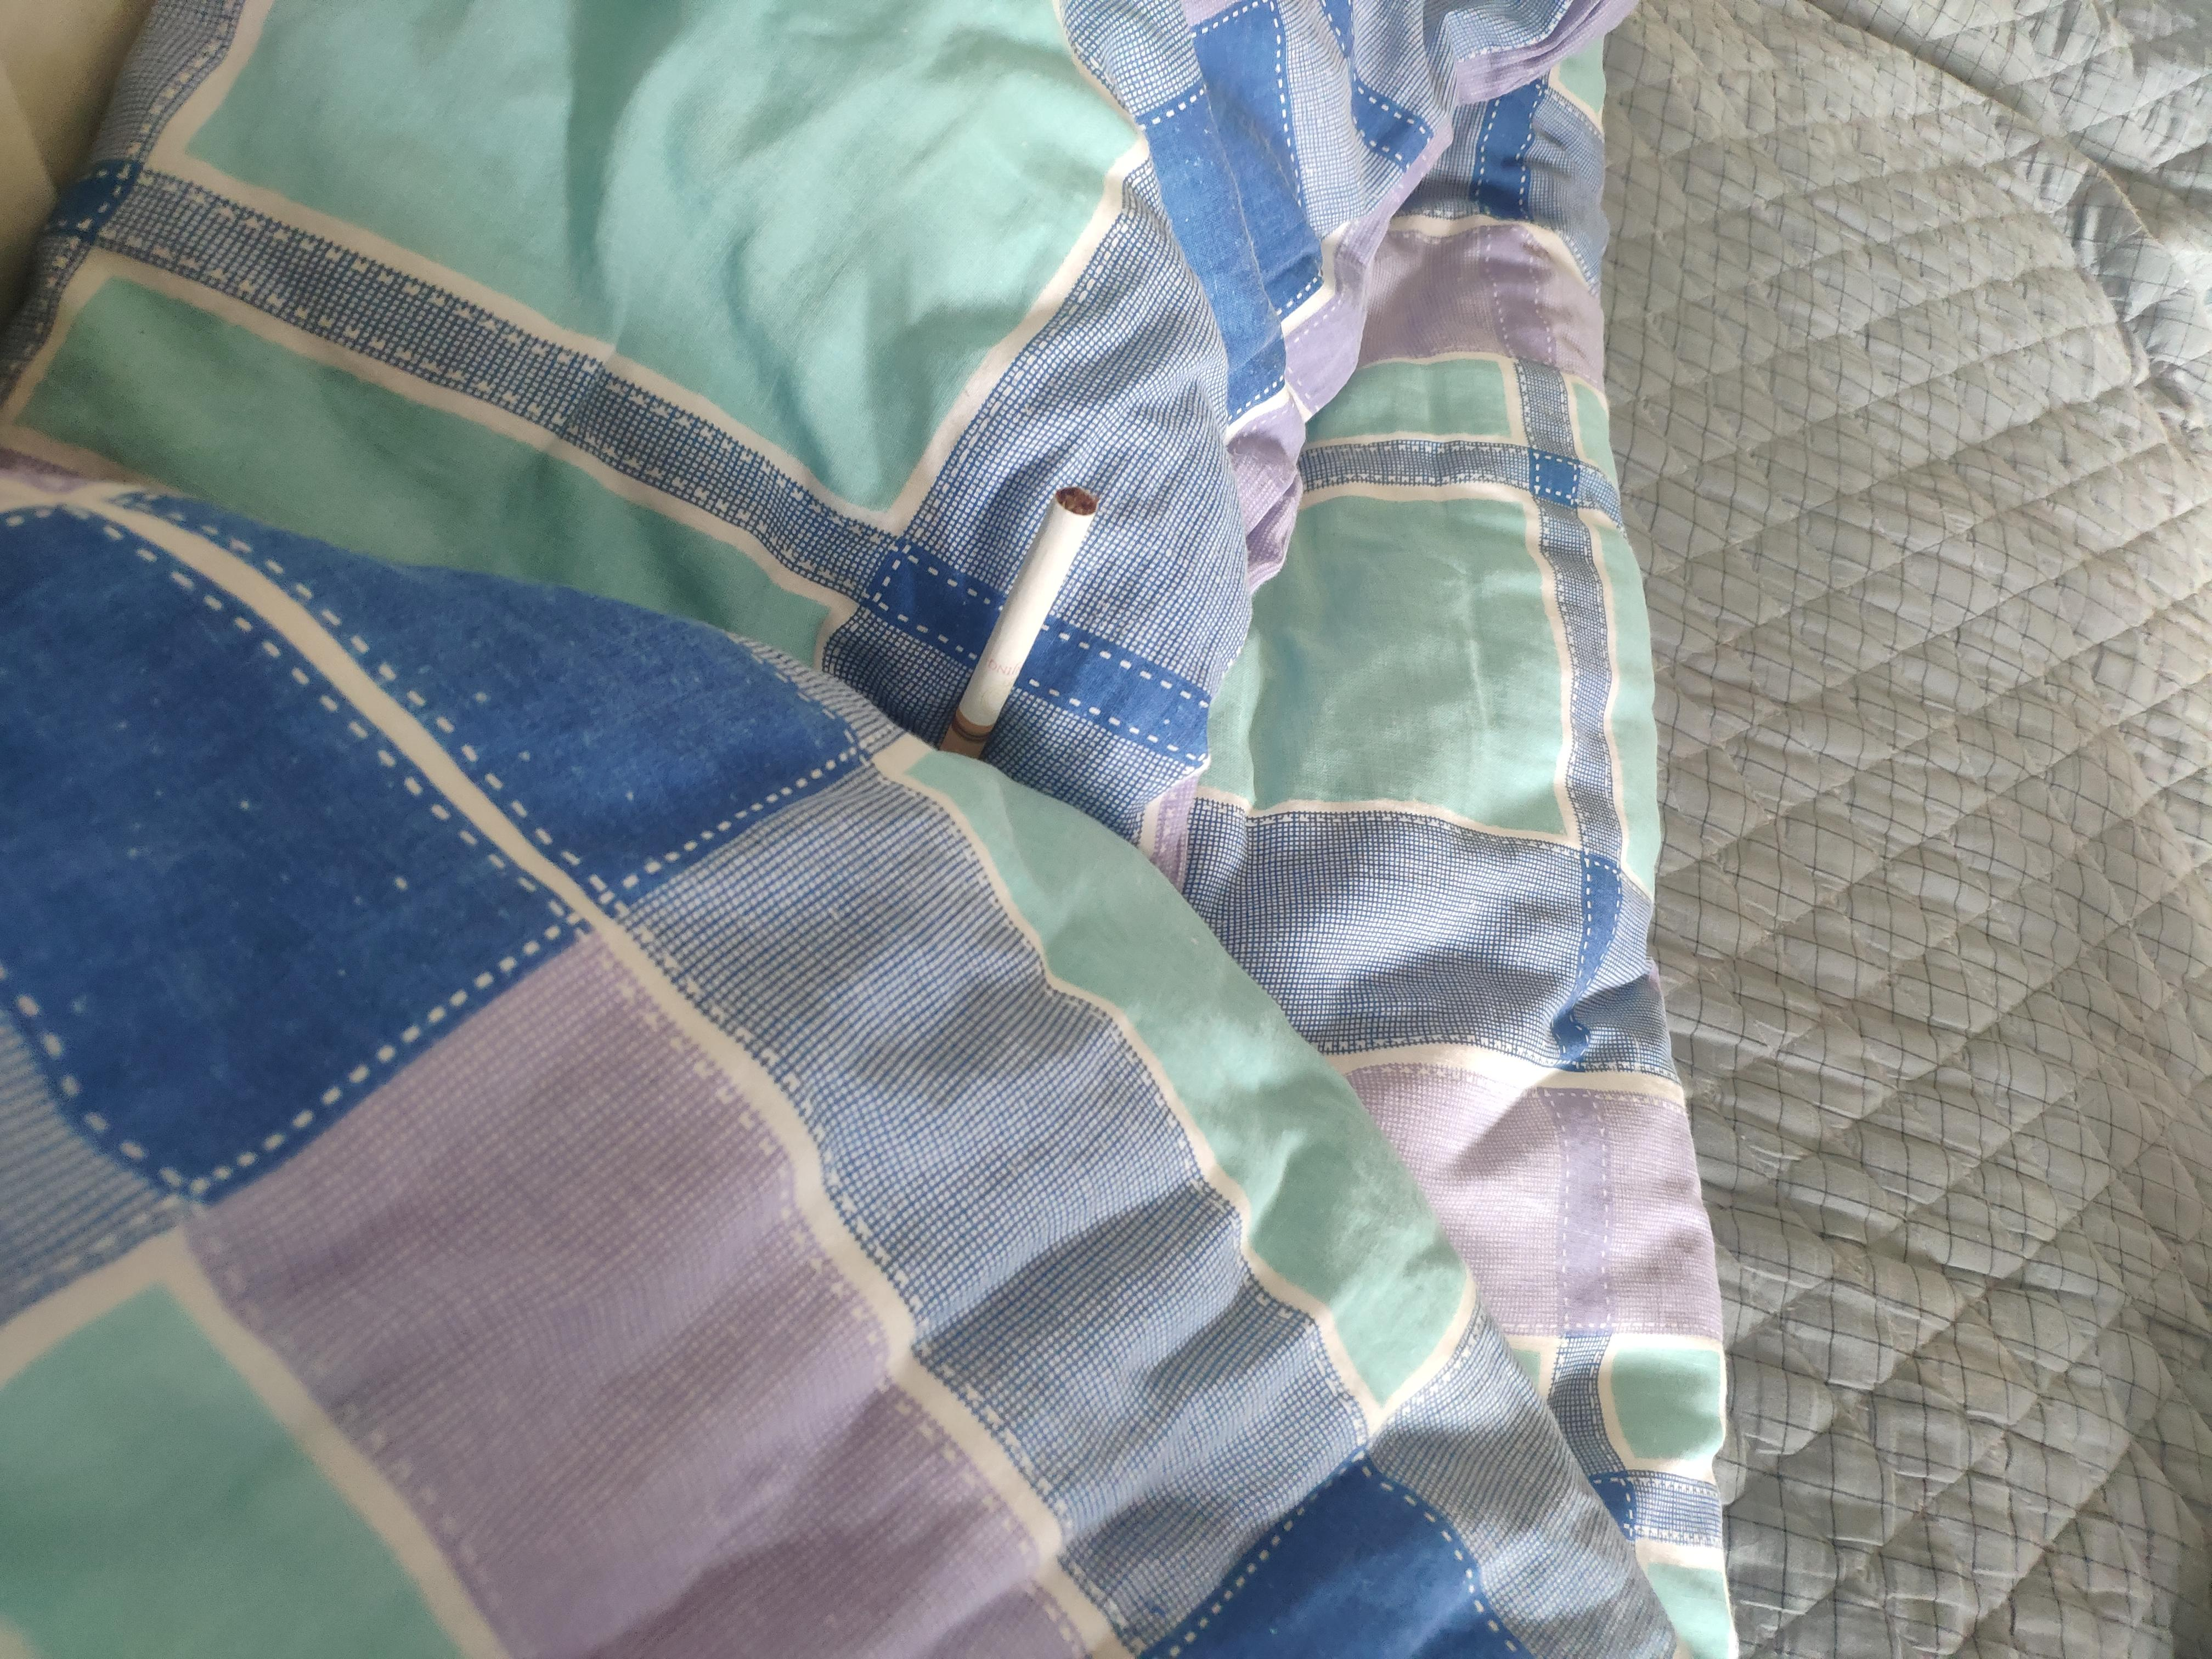smoke: (648, 833, 1050, 976)
